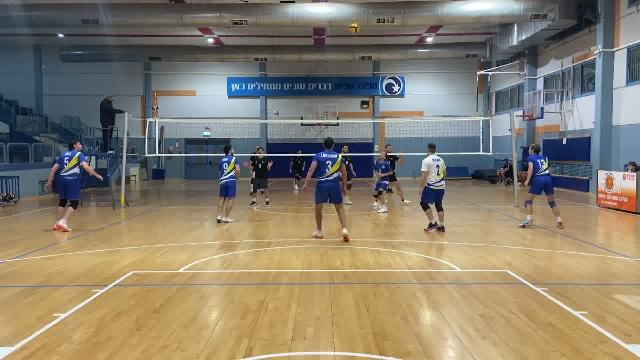ball: (347, 21, 360, 34)
